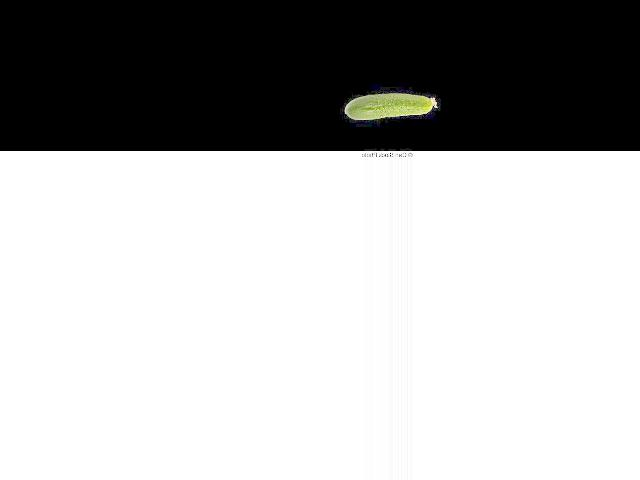cucumber: (344, 93, 436, 120)
